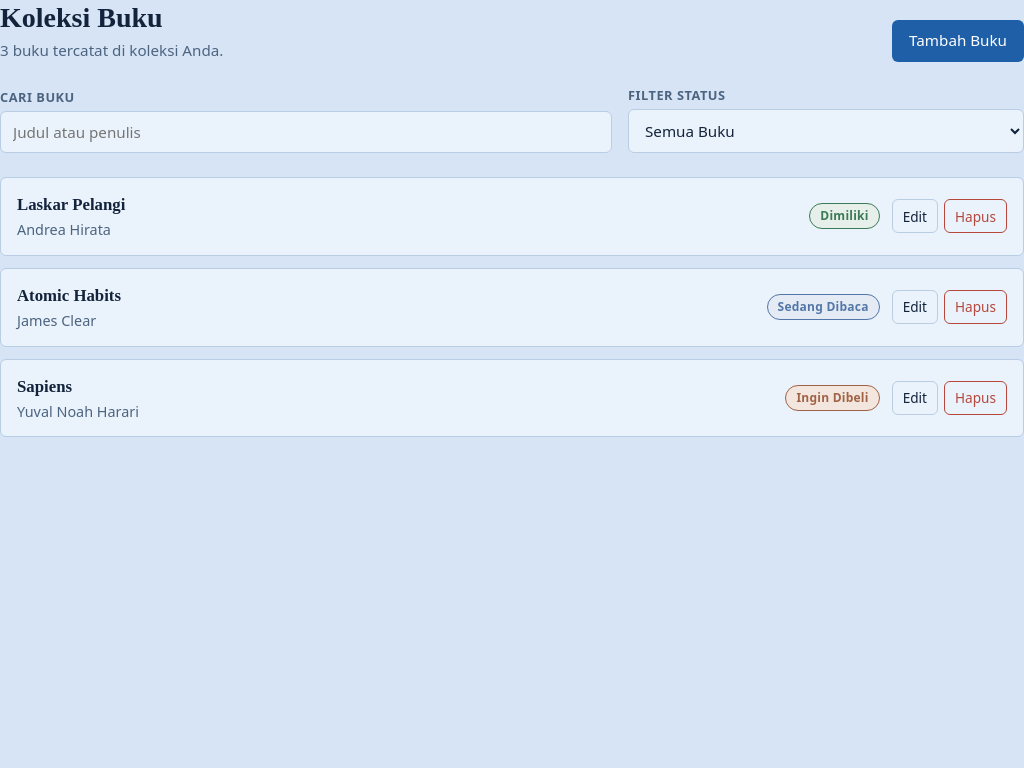
Test: Home — pencarian, filter, dan edit/hapus › mengedit buku yang sudah ada
Click the button "Edit" next to "Dimiliki".
click(915, 216)  # box [892,199,938,233]
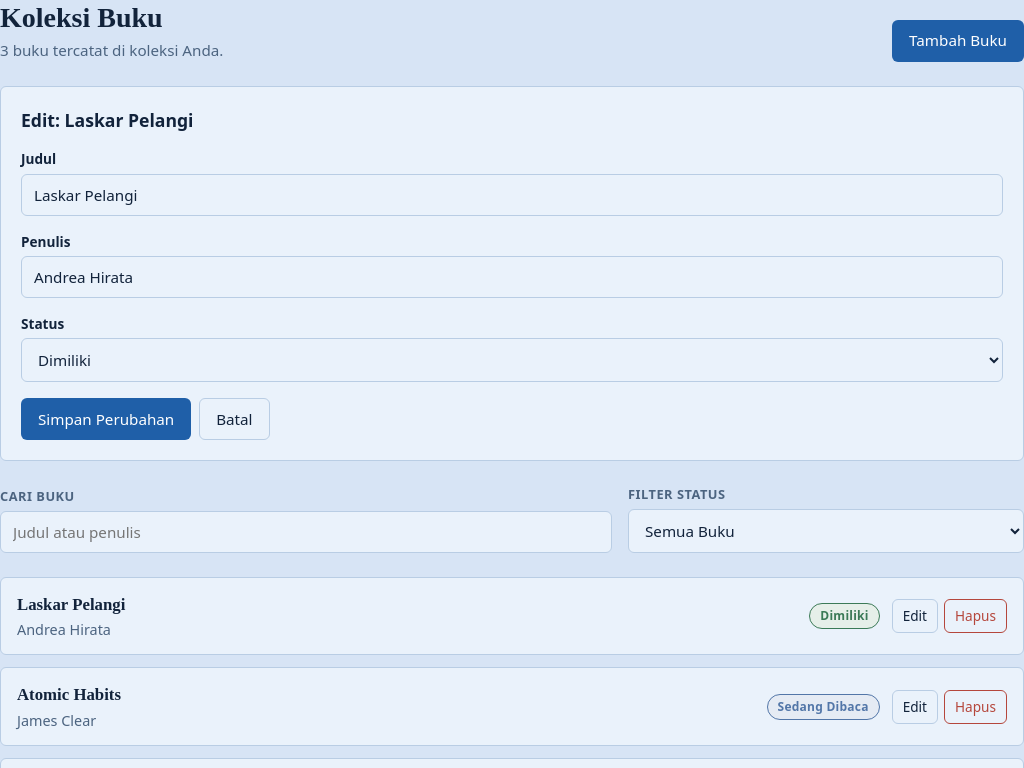
Replace the text in the field labelled "Judul" with "Laskar Pelangi (Edisi Baru)" at (512, 195), box [21,174,1003,216]
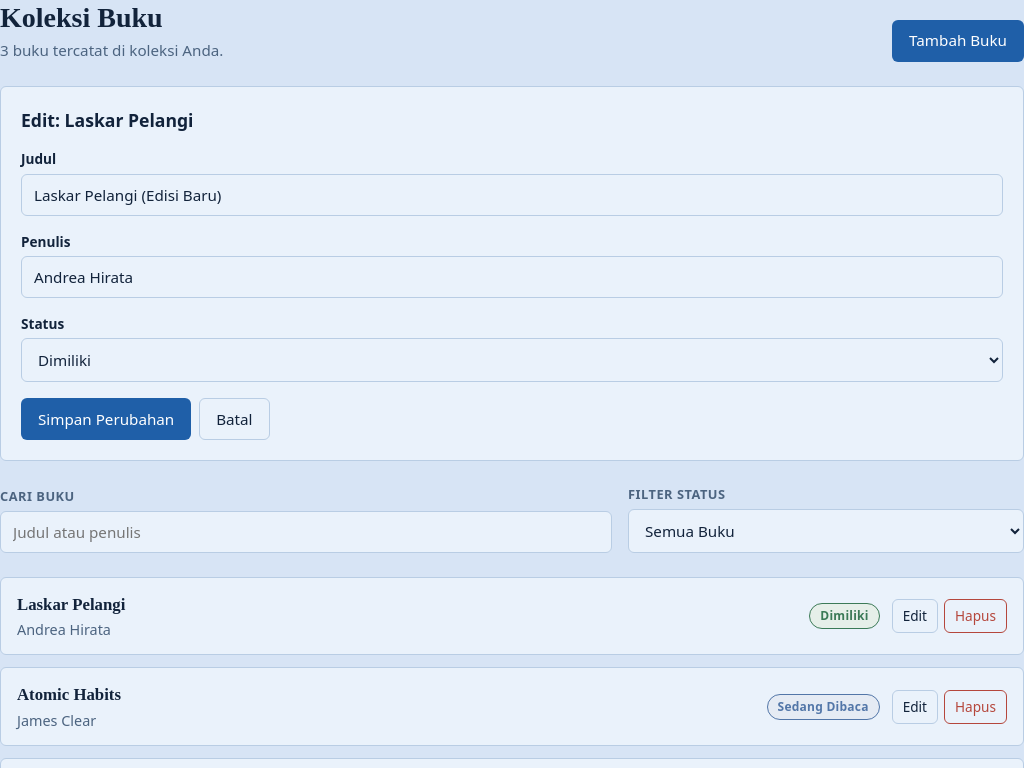
Click the button "Simpan Perubahan".
click(106, 419)  # box [21,398,191,440]
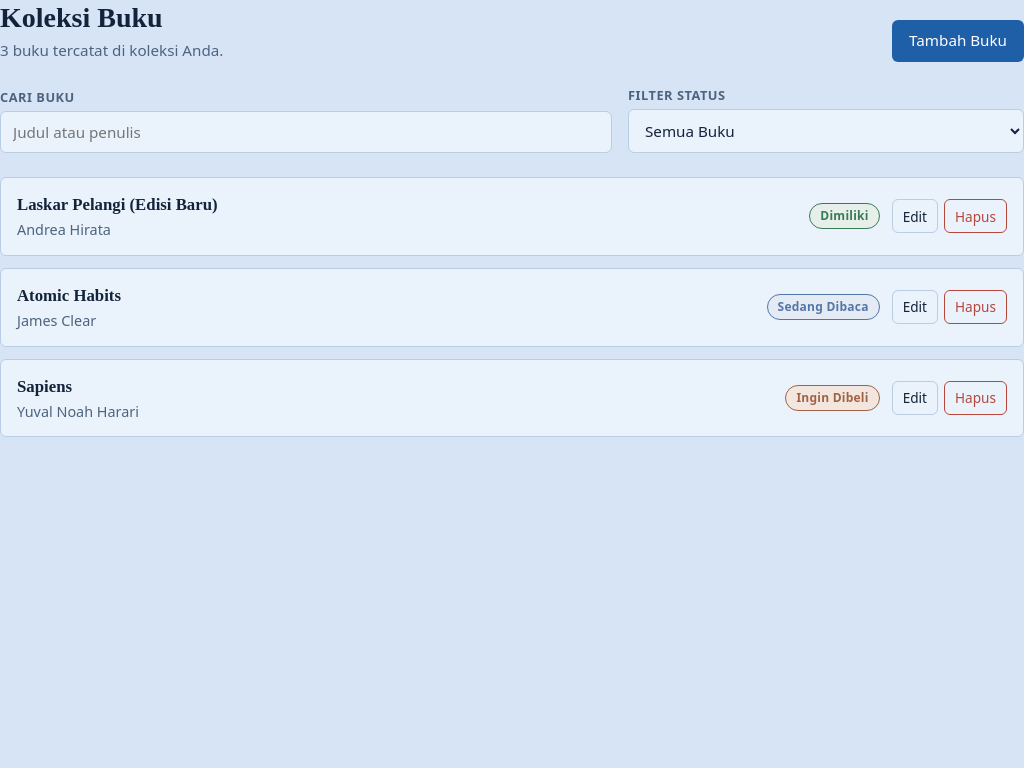
Now the heading "Laskar Pelangi (Edisi Baru)" is shown, box [17,195,218,214]
